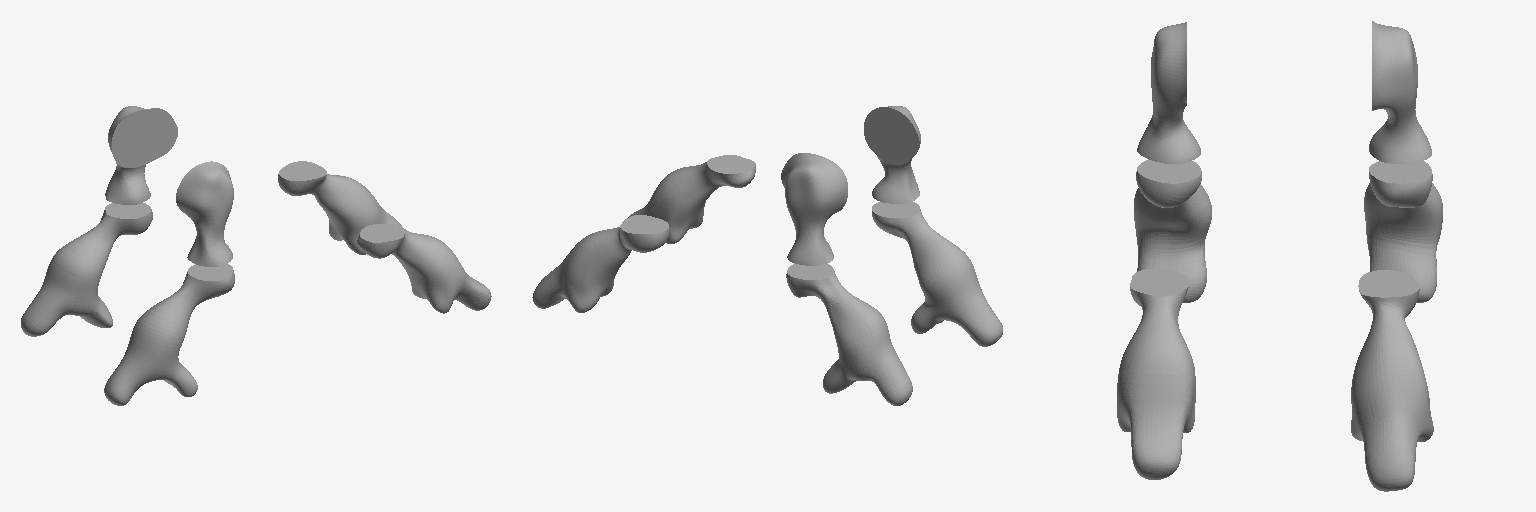
URDF robot description (RobotDog):
<?xml version="1.0" ?>
<robot name="RobotDog">

<material name="silver">
  <color rgba="0.700 0.700 0.700 1.000"/>
</material>

<link name="base_link">
  <inertial>
    <origin xyz="0 0 0" rpy="0 0 0"/>
    <mass value="4.944006724025301"/>
    <inertia ixx="0.013068633825971874" iyy="0.08803654740619468" izz="0.08484521533790042" ixy="0.0006569205050025995" iyz="0.00011903767920557932" ixz="-0.0043542158516784914"/>
  </inertial>
  <visual>
    <origin xyz="0 0 0" rpy="0 0 0"/>
    <geometry>
      <mesh filename="meshes/base_link.stl" scale="0.001 0.001 0.001"/>
    </geometry>
    <material name="silver"/>
  </visual>
  <collision>
    <origin xyz="0 0 0" rpy="0 0 0"/>
    <geometry>
      <mesh filename="meshes/base_link.stl" scale="0.001 0.001 0.001"/>
    </geometry>
  </collision>
</link>

<link name="leg1_1">
  <inertial>
    <origin xyz="-0.108728 -0.076125 -0.03886" rpy="0 0 0"/>
    <mass value="0.17635098126357945"/>
    <inertia ixx="0.0002575563076414103" iyy="0.00028355988220532796" izz="6.165851557052814e-05" ixy="-6.905459371546636e-07" iyz="3.2422216219538417e-06" ixz="-7.962671147490857e-07"/>
  </inertial>
  <visual>
    <origin xyz="-0.108728 -0.076125 -0.03886" rpy="0 0 0"/>
    <geometry>
      <mesh filename="meshes/leg1_1.stl" scale="0.001 0.001 0.001"/>
    </geometry>
    <material name="silver"/>
  </visual>
  <collision>
    <origin xyz="-0.108728 -0.076125 -0.03886" rpy="0 0 0"/>
    <geometry>
      <mesh filename="meshes/leg1_1.stl" scale="0.001 0.001 0.001"/>
    </geometry>
  </collision>
</link>

<link name="leg2_1">
  <inertial>
    <origin xyz="0.134347 -0.076125 -0.038955" rpy="0 0 0"/>
    <mass value="0.21988900237553521"/>
    <inertia ixx="0.0003018868901724604" iyy="0.0003380556945018279" izz="9.913911461792348e-05" ixy="2.672210654477373e-06" iyz="2.9804497865372546e-05" ixz="-1.261715126454427e-05"/>
  </inertial>
  <visual>
    <origin xyz="0.134347 -0.076125 -0.038955" rpy="0 0 0"/>
    <geometry>
      <mesh filename="meshes/leg2_1.stl" scale="0.001 0.001 0.001"/>
    </geometry>
    <material name="silver"/>
  </visual>
  <collision>
    <origin xyz="0.134347 -0.076125 -0.038955" rpy="0 0 0"/>
    <geometry>
      <mesh filename="meshes/leg2_1.stl" scale="0.001 0.001 0.001"/>
    </geometry>
  </collision>
</link>

<link name="leg3_1">
  <inertial>
    <origin xyz="-0.102253 0.076125 -0.041624" rpy="0 0 0"/>
    <mass value="0.2124436301601684"/>
    <inertia ixx="0.0003038108229708636" iyy="0.00033477478704116307" izz="8.903877790008858e-05" ixy="5.563117812324228e-07" iyz="-2.6244416624227117e-05" ixz="4.740653695237845e-06"/>
  </inertial>
  <visual>
    <origin xyz="-0.102253 0.076125 -0.041624" rpy="0 0 0"/>
    <geometry>
      <mesh filename="meshes/leg3_1.stl" scale="0.001 0.001 0.001"/>
    </geometry>
    <material name="silver"/>
  </visual>
  <collision>
    <origin xyz="-0.102253 0.076125 -0.041624" rpy="0 0 0"/>
    <geometry>
      <mesh filename="meshes/leg3_1.stl" scale="0.001 0.001 0.001"/>
    </geometry>
  </collision>
</link>

<link name="leg4_1">
  <inertial>
    <origin xyz="0.144982 0.076125 -0.03761" rpy="0 0 0"/>
    <mass value="0.16803507345033536"/>
    <inertia ixx="0.00023313573897064377" iyy="0.0002578698077087406" izz="5.632356757126911e-05" ixy="-2.878202624615432e-07" iyz="-7.351883954747213e-06" ixz="8.312906133240068e-07"/>
  </inertial>
  <visual>
    <origin xyz="0.144982 0.076125 -0.03761" rpy="0 0 0"/>
    <geometry>
      <mesh filename="meshes/leg4_1.stl" scale="0.001 0.001 0.001"/>
    </geometry>
    <material name="silver"/>
  </visual>
  <collision>
    <origin xyz="0.144982 0.076125 -0.03761" rpy="0 0 0"/>
    <geometry>
      <mesh filename="meshes/leg4_1.stl" scale="0.001 0.001 0.001"/>
    </geometry>
  </collision>
</link>

<link name="foot1_1">
  <inertial>
    <origin xyz="-0.10802 -0.100533 0.061009" rpy="0 0 0"/>
    <mass value="0.4197478789995662"/>
    <inertia ixx="0.0006568980308908883" iyy="0.0012130802809138738" izz="0.0007654275169628605" ixy="-8.876982606685797e-06" iyz="9.84617748643439e-06" ixz="0.0005028029484198688"/>
  </inertial>
  <visual>
    <origin xyz="-0.10802 -0.100533 0.061009" rpy="0 0 0"/>
    <geometry>
      <mesh filename="meshes/foot1_1.stl" scale="0.001 0.001 0.001"/>
    </geometry>
    <material name="silver"/>
  </visual>
  <collision>
    <origin xyz="-0.10802 -0.100533 0.061009" rpy="0 0 0"/>
    <geometry>
      <mesh filename="meshes/foot1_1.stl" scale="0.001 0.001 0.001"/>
    </geometry>
  </collision>
</link>

<link name="foot2_1">
  <inertial>
    <origin xyz="0.142413 -0.112758 0.061009" rpy="0 0 0"/>
    <mass value="0.4725136412635692"/>
    <inertia ixx="0.0008942612498513414" iyy="0.0014362796619221269" izz="0.0007738208937411763" ixy="2.588853288452292e-05" iyz="3.002262491627085e-05" ixz="-0.0004468415567392744"/>
  </inertial>
  <visual>
    <origin xyz="0.142413 -0.112758 0.061009" rpy="0 0 0"/>
    <geometry>
      <mesh filename="meshes/foot2_1.stl" scale="0.001 0.001 0.001"/>
    </geometry>
    <material name="silver"/>
  </visual>
  <collision>
    <origin xyz="0.142413 -0.112758 0.061009" rpy="0 0 0"/>
    <geometry>
      <mesh filename="meshes/foot2_1.stl" scale="0.001 0.001 0.001"/>
    </geometry>
  </collision>
</link>

<link name="foot3_1">
  <inertial>
    <origin xyz="-0.103793 0.111521 0.061009" rpy="0 0 0"/>
    <mass value="0.39949807856162617"/>
    <inertia ixx="0.0005587831898407839" iyy="0.0010518776327046626" izz="0.0006940924676289602" ixy="1.203976673111104e-05" iyz="-1.1540259697796242e-05" ixz="0.0004252328517385783"/>
  </inertial>
  <visual>
    <origin xyz="-0.103793 0.111521 0.061009" rpy="0 0 0"/>
    <geometry>
      <mesh filename="meshes/foot3_1.stl" scale="0.001 0.001 0.001"/>
    </geometry>
    <material name="silver"/>
  </visual>
  <collision>
    <origin xyz="-0.103793 0.111521 0.061009" rpy="0 0 0"/>
    <geometry>
      <mesh filename="meshes/foot3_1.stl" scale="0.001 0.001 0.001"/>
    </geometry>
  </collision>
</link>

<link name="foot4_1">
  <inertial>
    <origin xyz="0.143602 0.101679 0.061009" rpy="0 0 0"/>
    <mass value="0.47989575308955273"/>
    <inertia ixx="0.0009695943456060931" iyy="0.001553049212715138" izz="0.0008133799906742435" ixy="1.2974184452863372e-05" iyz="1.5042560526418516e-05" ixz="-0.0005143394400318087"/>
  </inertial>
  <visual>
    <origin xyz="0.143602 0.101679 0.061009" rpy="0 0 0"/>
    <geometry>
      <mesh filename="meshes/foot4_1.stl" scale="0.001 0.001 0.001"/>
    </geometry>
    <material name="silver"/>
  </visual>
  <collision>
    <origin xyz="0.143602 0.101679 0.061009" rpy="0 0 0"/>
    <geometry>
      <mesh filename="meshes/foot4_1.stl" scale="0.001 0.001 0.001"/>
    </geometry>
  </collision>
</link>

<joint name="Revolute 1" type="revolute">
  <origin xyz="0.108728 0.076125 0.03886" rpy="0 0 0"/>
  <parent link="base_link"/>
  <child link="leg1_1"/>
  <axis xyz="0.0 1.0 0.0"/>
  <limit upper="0.0" lower="0.0" effort="3.8" velocity="5.4"/>
</joint>
<transmission name="Revolute 1_tran">
  <type>transmission_interface/SimpleTransmission</type>
  <joint name="Revolute 1">
    <hardwareInterface>PositionJointInterface</hardwareInterface>
  </joint>
  <actuator name="Revolute 1_actr">
    <hardwareInterface>PositionJointInterface</hardwareInterface>
    <mechanicalReduction>1</mechanicalReduction>
  </actuator>
</transmission>

<joint name="Revolute 2" type="revolute">
  <origin xyz="-0.134347 0.076125 0.038955" rpy="0 0 0"/>
  <parent link="base_link"/>
  <child link="leg2_1"/>
  <axis xyz="0.0 1.0 0.0"/>
  <limit upper="0.0" lower="0.0" effort="3.8" velocity="5.4"/>
</joint>
<transmission name="Revolute 2_tran">
  <type>transmission_interface/SimpleTransmission</type>
  <joint name="Revolute 2">
    <hardwareInterface>PositionJointInterface</hardwareInterface>
  </joint>
  <actuator name="Revolute 2_actr">
    <hardwareInterface>PositionJointInterface</hardwareInterface>
    <mechanicalReduction>1</mechanicalReduction>
  </actuator>
</transmission>

<joint name="Revolute 3" type="revolute">
  <origin xyz="0.102253 -0.076125 0.041624" rpy="0 0 0"/>
  <parent link="base_link"/>
  <child link="leg3_1"/>
  <axis xyz="0.0 1.0 0.0"/>
  <limit upper="0.0" lower="0.0" effort="3.8" velocity="5.4"/>
</joint>
<transmission name="Revolute 3_tran">
  <type>transmission_interface/SimpleTransmission</type>
  <joint name="Revolute 3">
    <hardwareInterface>PositionJointInterface</hardwareInterface>
  </joint>
  <actuator name="Revolute 3_actr">
    <hardwareInterface>PositionJointInterface</hardwareInterface>
    <mechanicalReduction>1</mechanicalReduction>
  </actuator>
</transmission>

<joint name="Revolute 4" type="revolute">
  <origin xyz="-0.144982 -0.076125 0.03761" rpy="0 0 0"/>
  <parent link="base_link"/>
  <child link="leg4_1"/>
  <axis xyz="0.0 1.0 0.0"/>
  <limit upper="0.0" lower="0.0" effort="3.8" velocity="5.4"/>
</joint>
<transmission name="Revolute 4_tran">
  <type>transmission_interface/SimpleTransmission</type>
  <joint name="Revolute 4">
    <hardwareInterface>PositionJointInterface</hardwareInterface>
  </joint>
  <actuator name="Revolute 4_actr">
    <hardwareInterface>PositionJointInterface</hardwareInterface>
    <mechanicalReduction>1</mechanicalReduction>
  </actuator>
</transmission>

<joint name="Revolute 5" type="revolute">
  <origin xyz="-0.000708 0.024408 -0.099869" rpy="0 0 0"/>
  <parent link="leg1_1"/>
  <child link="foot1_1"/>
  <axis xyz="0.0 0.0 1.0"/>
  <limit upper="0.0" lower="0.0" effort="3.8" velocity="5.4"/>
</joint>
<transmission name="Revolute 5_tran">
  <type>transmission_interface/SimpleTransmission</type>
  <joint name="Revolute 5">
    <hardwareInterface>PositionJointInterface</hardwareInterface>
  </joint>
  <actuator name="Revolute 5_actr">
    <hardwareInterface>PositionJointInterface</hardwareInterface>
    <mechanicalReduction>1</mechanicalReduction>
  </actuator>
</transmission>

<joint name="Revolute 6" type="revolute">
  <origin xyz="-0.008066 0.036633 -0.099964" rpy="0 0 0"/>
  <parent link="leg2_1"/>
  <child link="foot2_1"/>
  <axis xyz="0.0 0.0 1.0"/>
  <limit upper="0.0" lower="0.0" effort="3.8" velocity="5.4"/>
</joint>
<transmission name="Revolute 6_tran">
  <type>transmission_interface/SimpleTransmission</type>
  <joint name="Revolute 6">
    <hardwareInterface>PositionJointInterface</hardwareInterface>
  </joint>
  <actuator name="Revolute 6_actr">
    <hardwareInterface>PositionJointInterface</hardwareInterface>
    <mechanicalReduction>1</mechanicalReduction>
  </actuator>
</transmission>

<joint name="Revolute 7" type="revolute">
  <origin xyz="0.00154 -0.035396 -0.102633" rpy="0 0 0"/>
  <parent link="leg3_1"/>
  <child link="foot3_1"/>
  <axis xyz="0.0 0.0 1.0"/>
  <limit upper="0.0" lower="0.0" effort="3.8" velocity="5.4"/>
</joint>
<transmission name="Revolute 7_tran">
  <type>transmission_interface/SimpleTransmission</type>
  <joint name="Revolute 7">
    <hardwareInterface>PositionJointInterface</hardwareInterface>
  </joint>
  <actuator name="Revolute 7_actr">
    <hardwareInterface>PositionJointInterface</hardwareInterface>
    <mechanicalReduction>1</mechanicalReduction>
  </actuator>
</transmission>

<joint name="Revolute 8" type="revolute">
  <origin xyz="0.00138 -0.025554 -0.098619" rpy="0 0 0"/>
  <parent link="leg4_1"/>
  <child link="foot4_1"/>
  <axis xyz="0.0 0.0 1.0"/>
  <limit upper="0.0" lower="0.0" effort="3.8" velocity="5.4"/>
</joint>
<transmission name="Revolute 8_tran">
  <type>transmission_interface/SimpleTransmission</type>
  <joint name="Revolute 8">
    <hardwareInterface>PositionJointInterface</hardwareInterface>
  </joint>
  <actuator name="Revolute 8_actr">
    <hardwareInterface>PositionJointInterface</hardwareInterface>
    <mechanicalReduction>1</mechanicalReduction>
  </actuator>
</transmission>

</robot>

--- Facts derived from the render (not from the file) ---
Views: 3 orthographic renders of the robot side by side, from view 1: azimuth 30°, elevation 25°; view 2: azimuth 150°, elevation 25°; view 3: azimuth 270°, elevation 25°.
Robot: RobotDog — 9 links, 8 joints (8 revolute); root link base_link; default pose: all joints at 0.
Visible links, largest first — view 1: foot4_1, foot2_1, foot3_1, leg2_1, foot1_1, leg4_1; view 2: foot4_1, foot2_1, foot1_1, leg2_1, foot3_1, leg4_1; view 3: foot1_1, foot3_1, foot2_1, foot4_1, leg2_1, leg4_1.
Boxes of the visible links, box(x1,y1,x2,y2) form: foot4_1: box(104, 264, 234, 405); foot2_1: box(21, 203, 152, 336); foot3_1: box(357, 224, 491, 313); leg2_1: box(105, 106, 177, 204); foot1_1: box(278, 161, 401, 254); leg4_1: box(176, 161, 233, 266); foot4_1: box(872, 202, 1002, 346); foot2_1: box(786, 263, 912, 405); foot1_1: box(532, 215, 669, 312); leg2_1: box(781, 153, 847, 265); foot3_1: box(628, 155, 755, 243); leg4_1: box(864, 106, 920, 203); foot1_1: box(1351, 270, 1433, 491); foot3_1: box(1117, 269, 1195, 479); foot2_1: box(1364, 161, 1442, 302); foot4_1: box(1134, 159, 1211, 302); leg2_1: box(1369, 21, 1431, 163); leg4_1: box(1137, 22, 1200, 163).
Size in the robot's own frame: 0.5597 by 0.3034 by 0.3068 metres.
6 mesh visuals loaded from 9 distinct referenced files (6 binary STL); not drawn: 3 (reference not matched to a file when rendering).